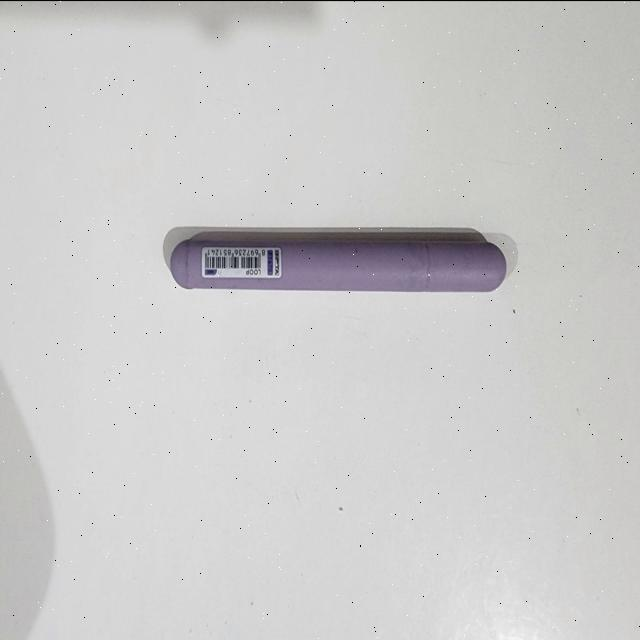kalem2: (169, 238, 507, 291)
